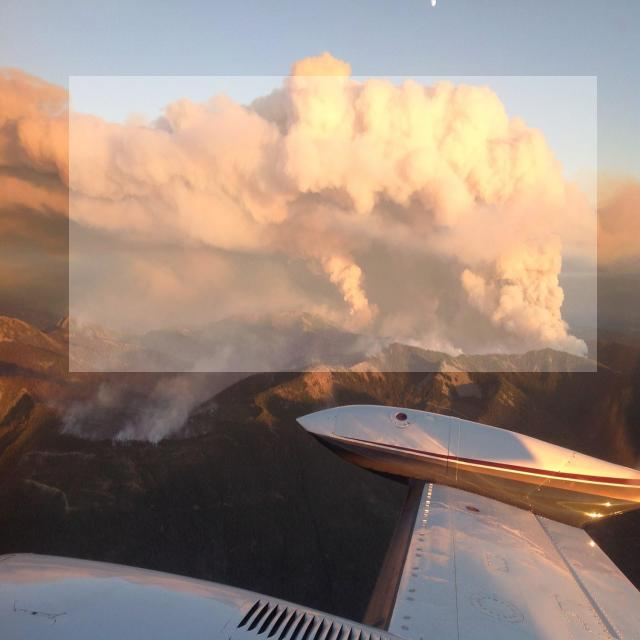Smoke: (70, 76, 598, 372)
